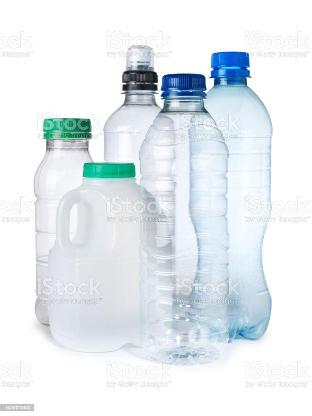Plastic Bottle: (138, 70, 234, 364), (186, 45, 278, 349), (30, 112, 102, 336)
